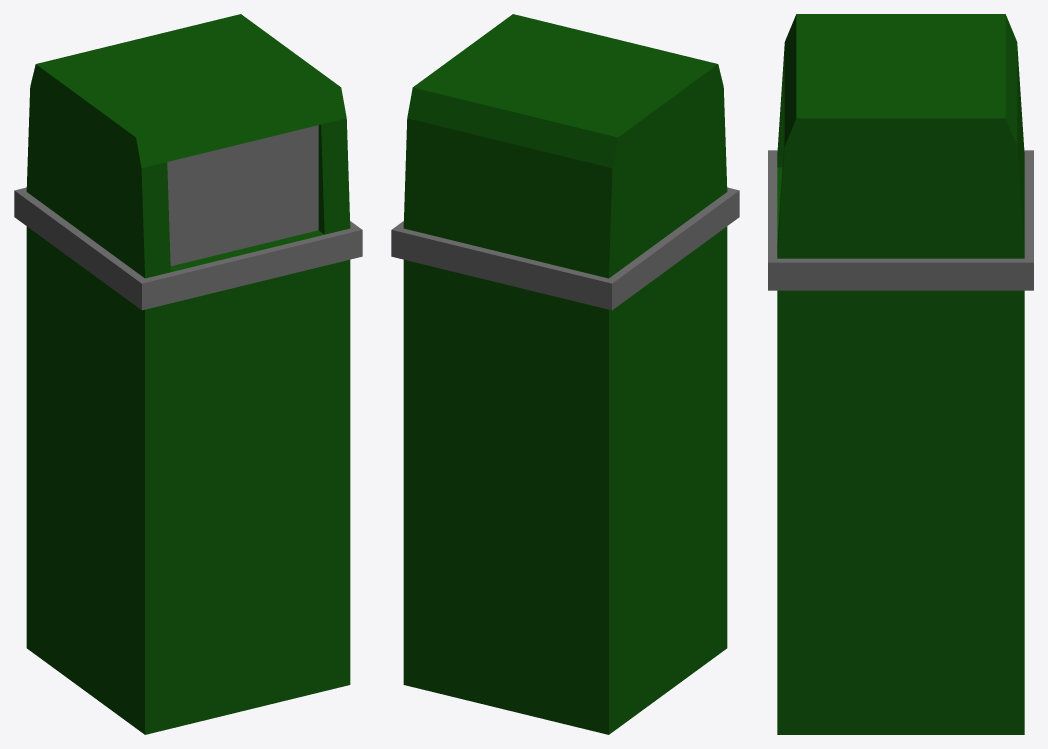
Rendered from Tori_Roskakori.fbx.
3 views of the same model, side by side, from view 1: azimuth 30°, elevation 25°; view 2: azimuth 150°, elevation 25°; view 3: azimuth 270°, elevation 25° (orthographic). The views are drawn at different scales.
Parts seen in each view (by area): view 1: Cube; view 2: Cube; view 3: Cube.
Part boxes in pixels (x1,y1,x2,y2): Cube: [14, 14, 362, 734]; Cube: [391, 14, 739, 734]; Cube: [768, 14, 1033, 734].
Size of the model in its own units: 42.97 by 110 by 42.97.
